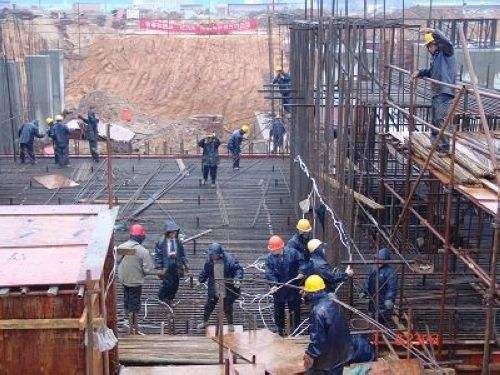blue: (162, 221, 180, 240), (207, 242, 224, 261), (373, 249, 389, 269)
red: (128, 223, 145, 244)
white: (306, 236, 326, 258)
yellow: (304, 273, 327, 303), (266, 235, 286, 257), (422, 30, 439, 55), (296, 217, 312, 239), (240, 126, 250, 138)
